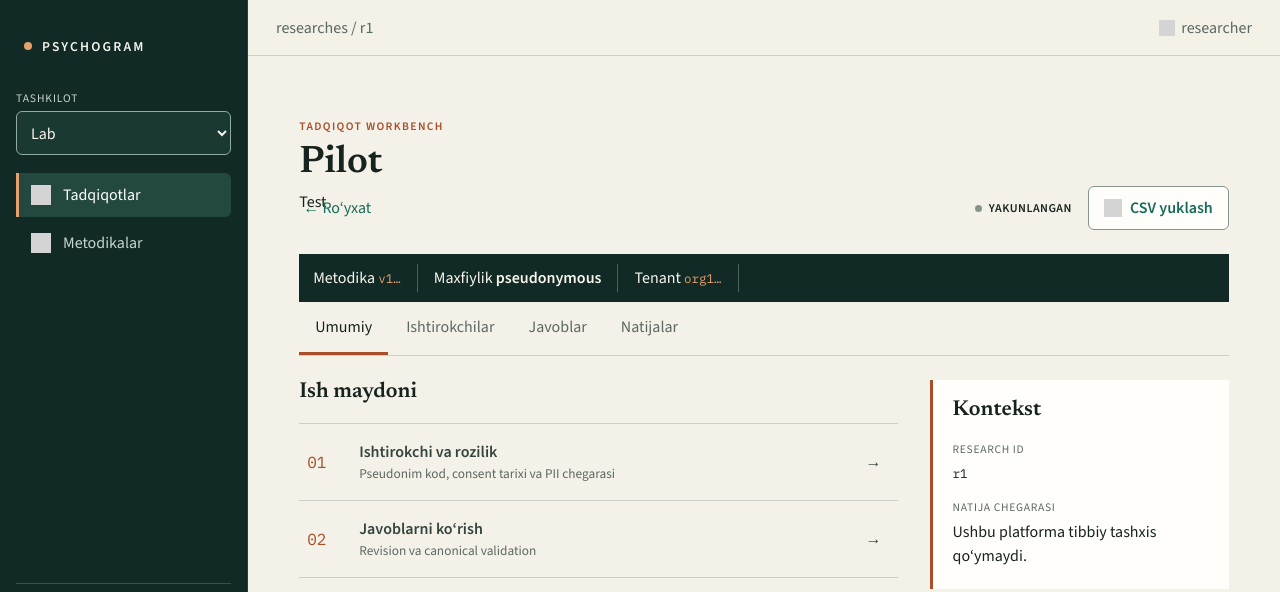
Test: research lifecycle › downloads the research CSV and reports what it contained
What coordinates should you click on to do the following:
click the button "CSV yuklash"
I would click on:
 (1158, 208)
Its box is [1088,186,1229,230].
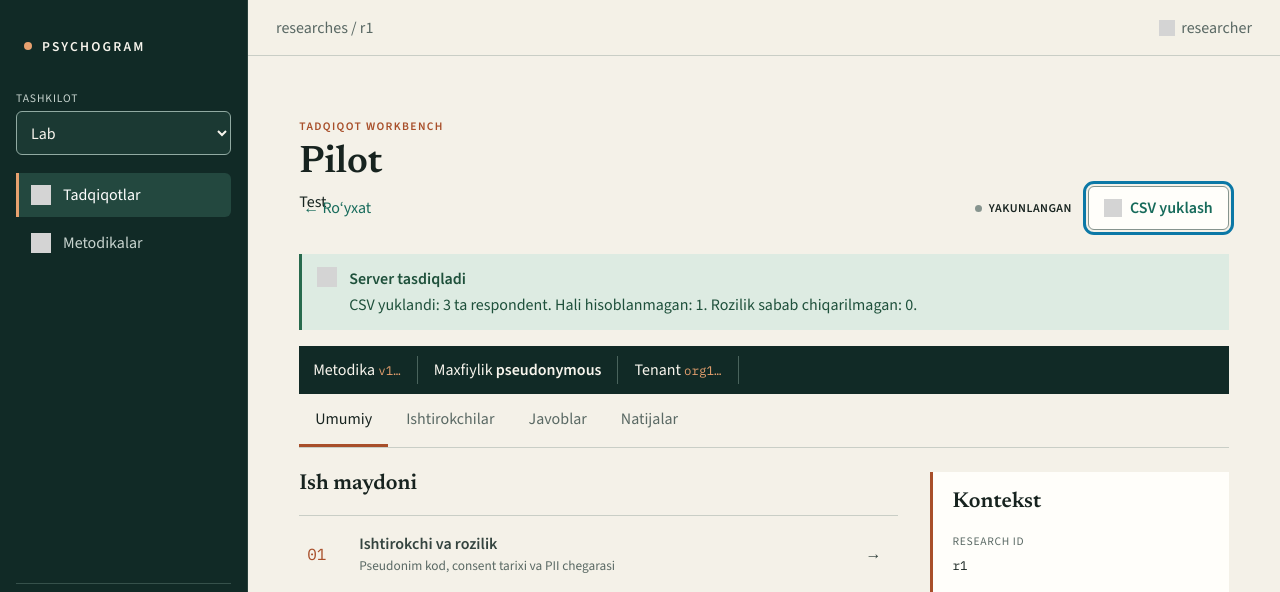
Expected: the text "CSV yuklandi: 3 ta respondent. Hali hisoblanmagan: 1. Rozilik sabab chiqarilmagan: 0." is shown, [349,294,917,315]
